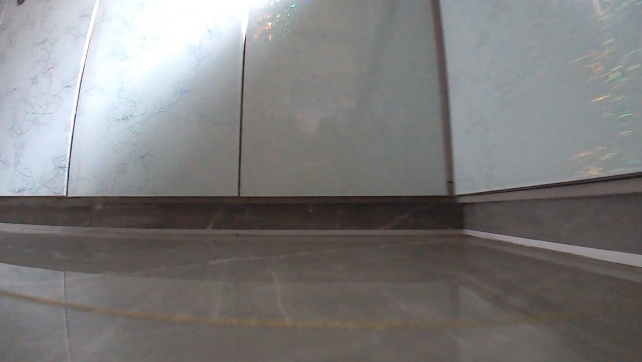cupboard1: (0, 0, 641, 264)
